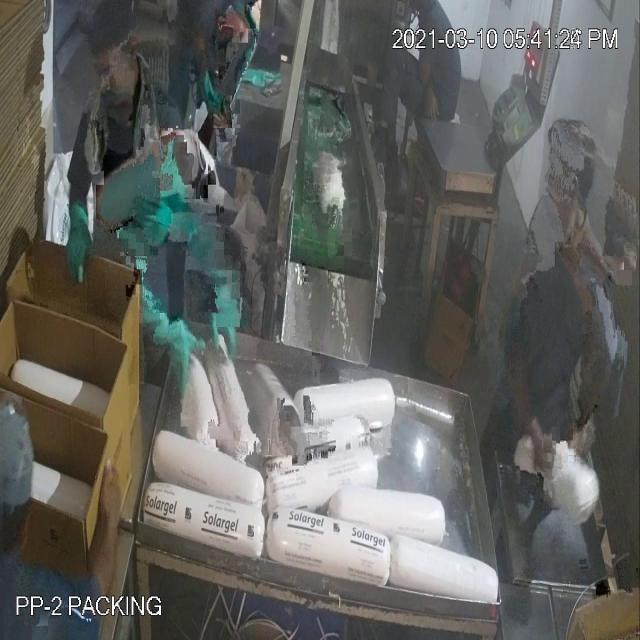No_Gloves: (40, 90, 534, 408)
